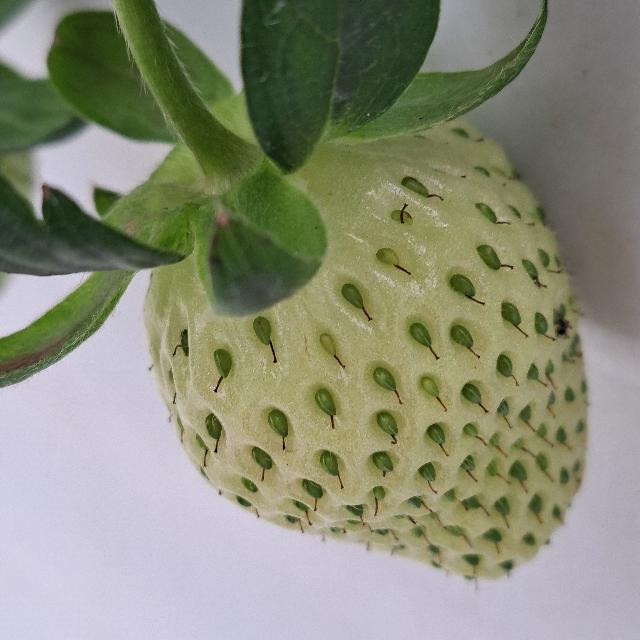Health_25: (143, 118, 587, 580)
